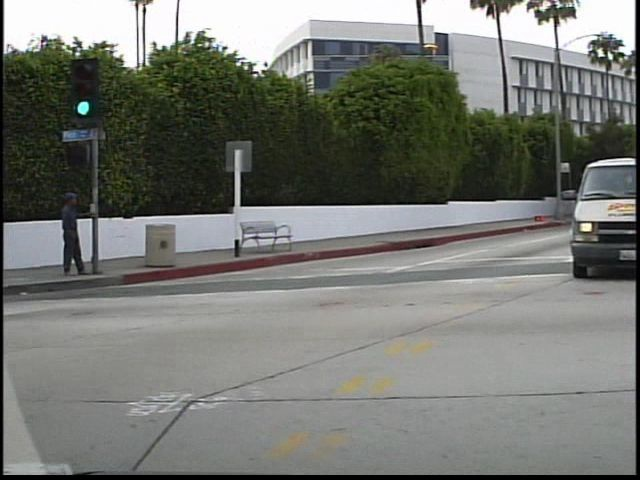person: (49, 189, 90, 279)
